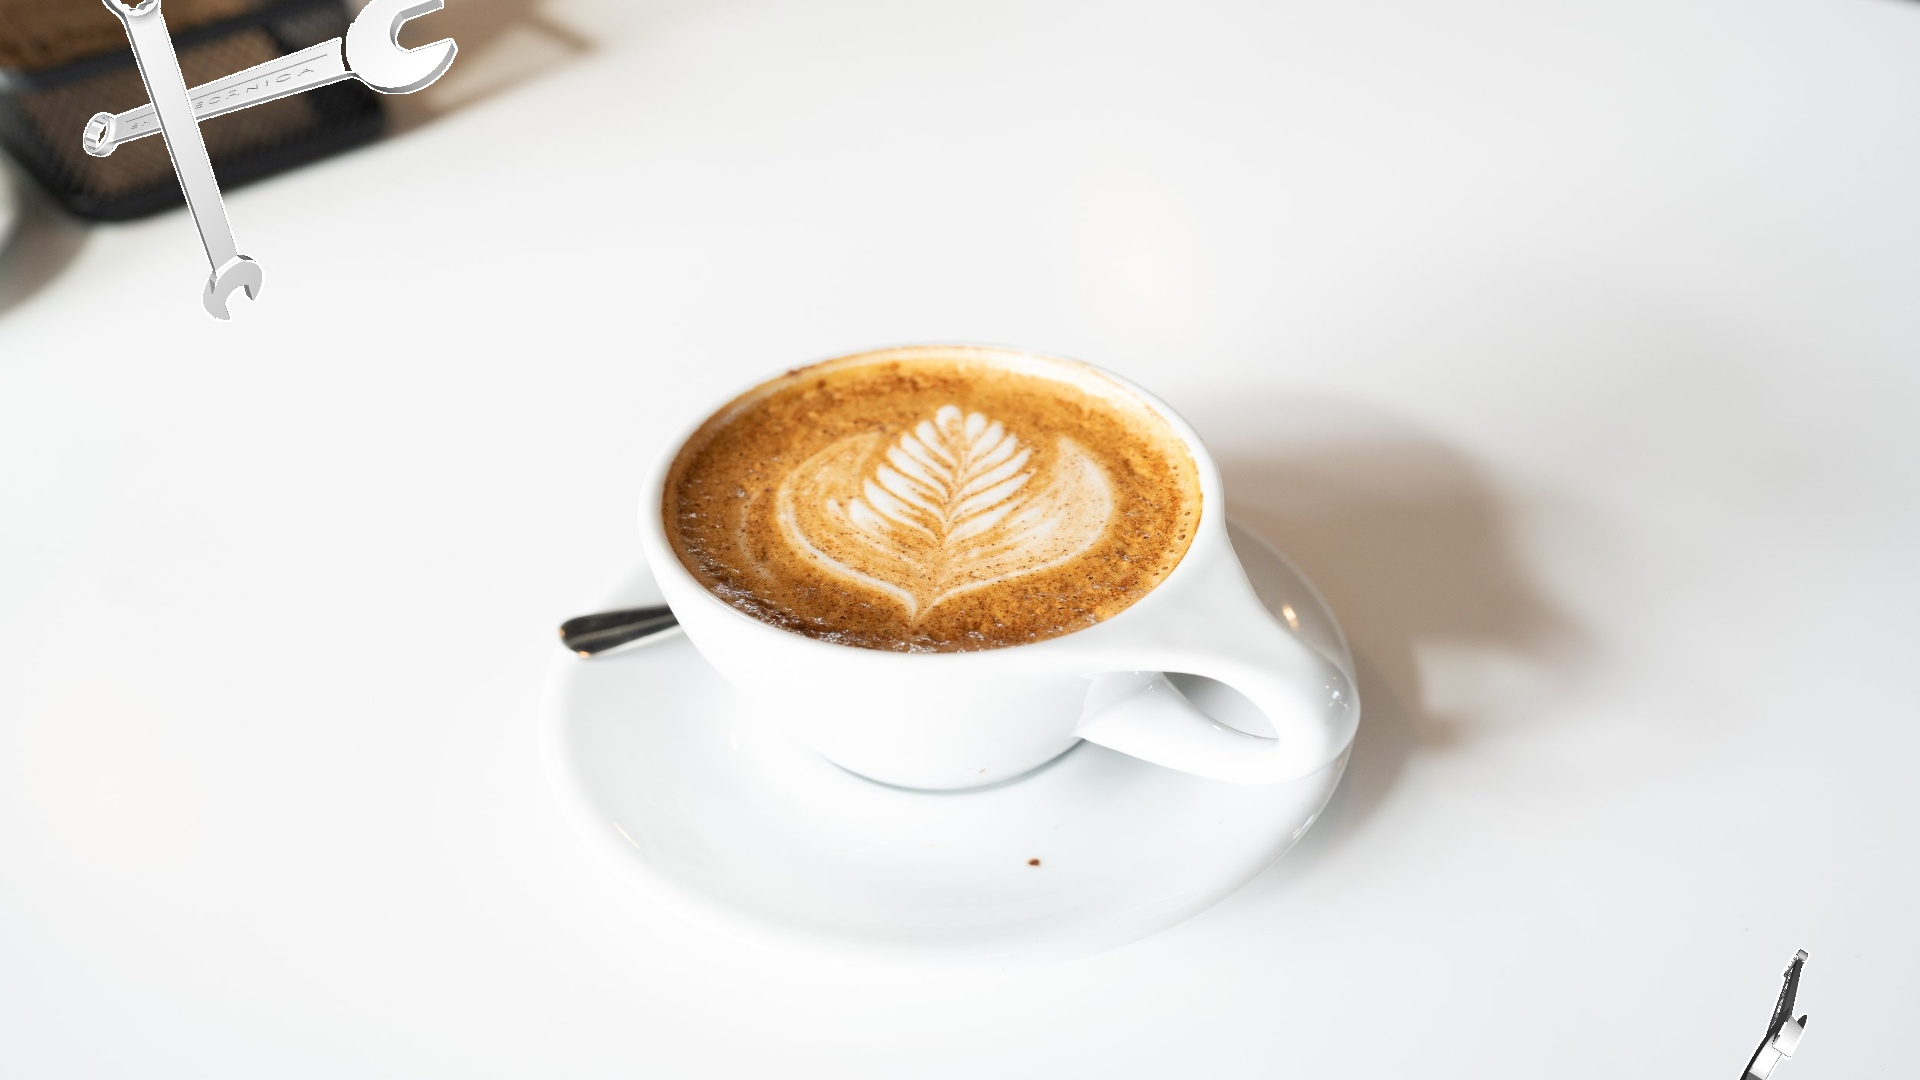Mixed Key: (83, 0, 458, 156), (102, 0, 264, 320), (1737, 948, 1809, 1079)
